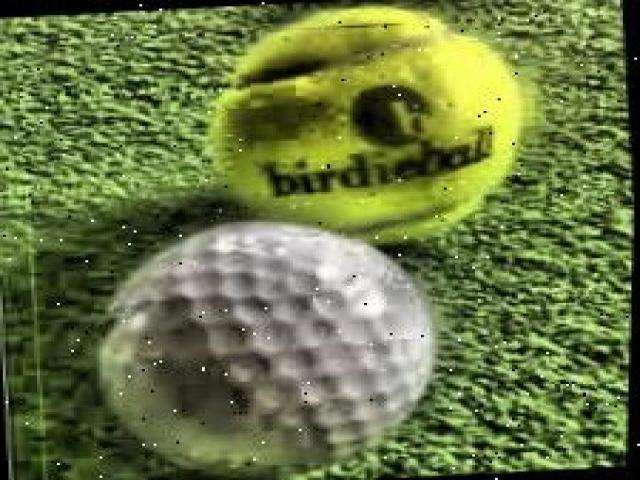tennis-ball: (206, 4, 530, 245)
